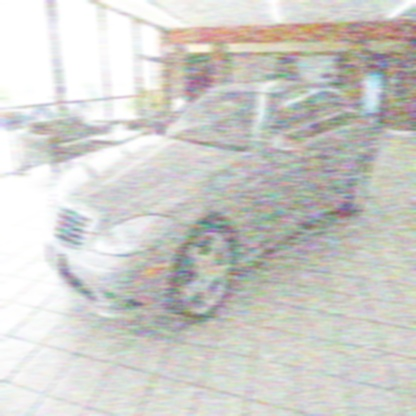Vehicle: (44, 84, 379, 322)
